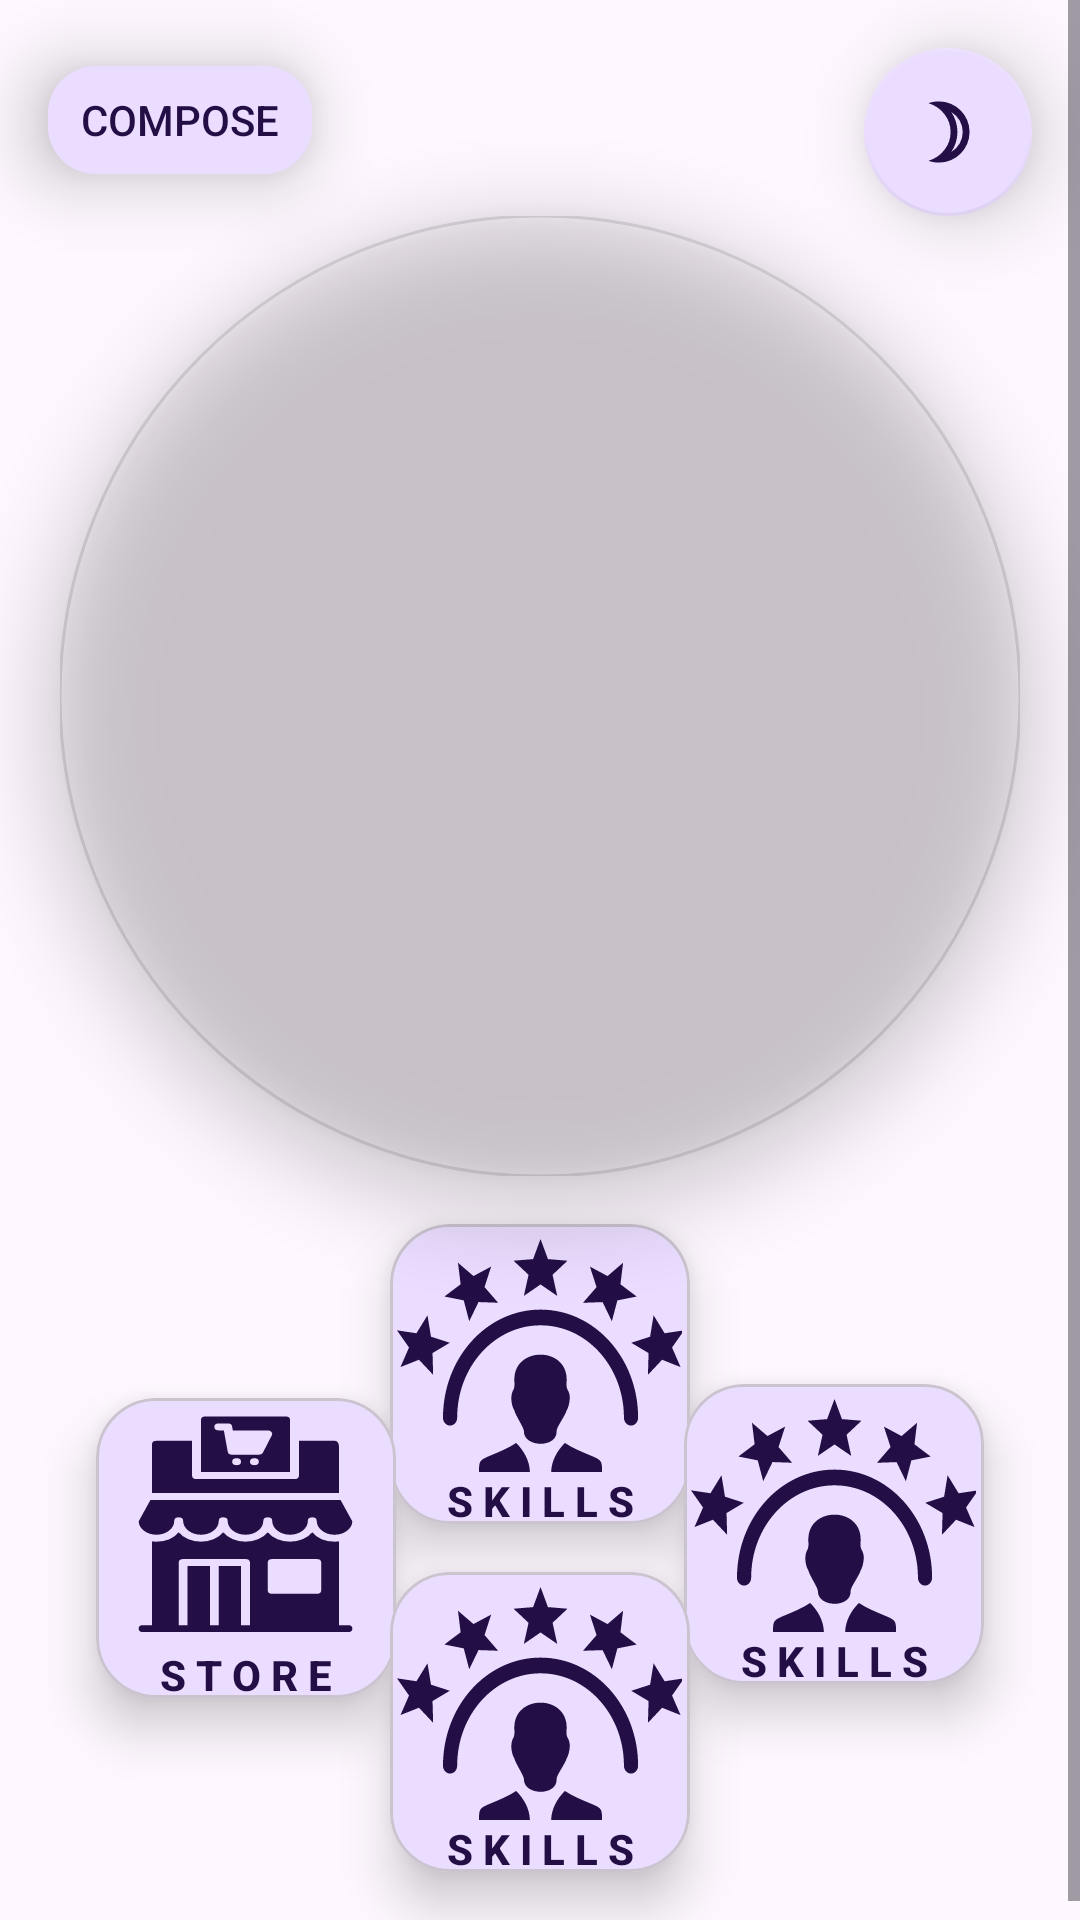

Named icons in this screenshot (1080px×1920px) and their centers, point (x, y):
Day/Night mode: point (948, 132)
